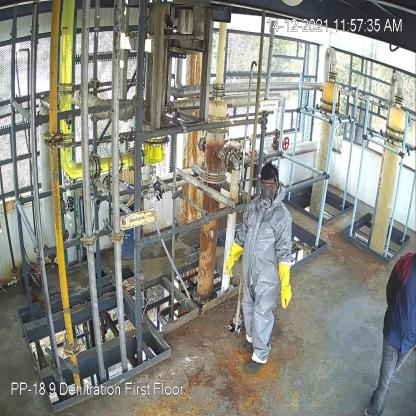goggles: (260, 180, 276, 190)
mask: (258, 190, 274, 209)
